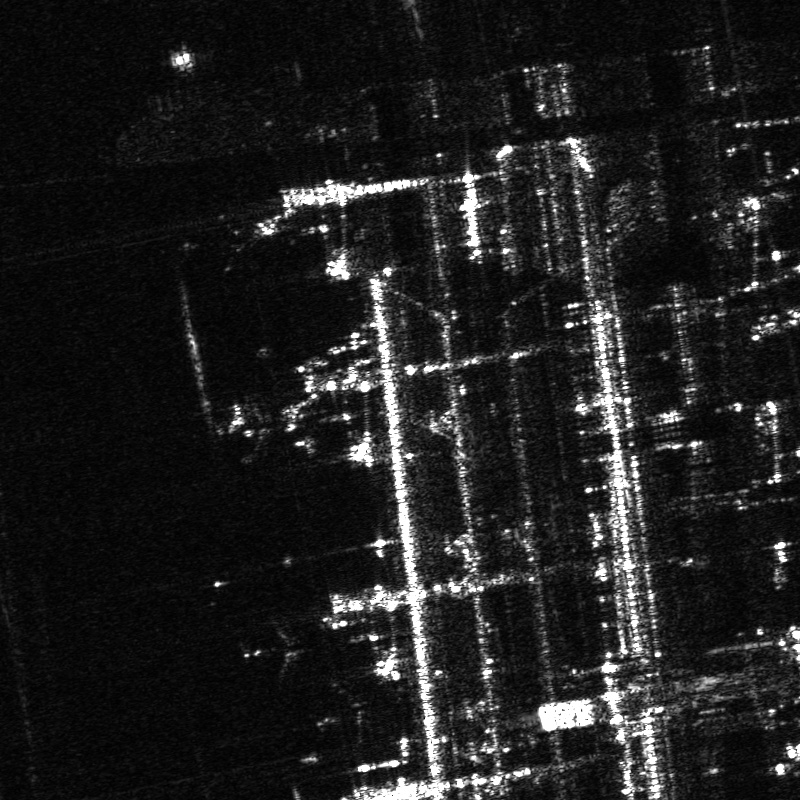Boeing737: (753, 149, 799, 209)
Boeing787: (243, 616, 323, 684), (314, 684, 383, 741)
